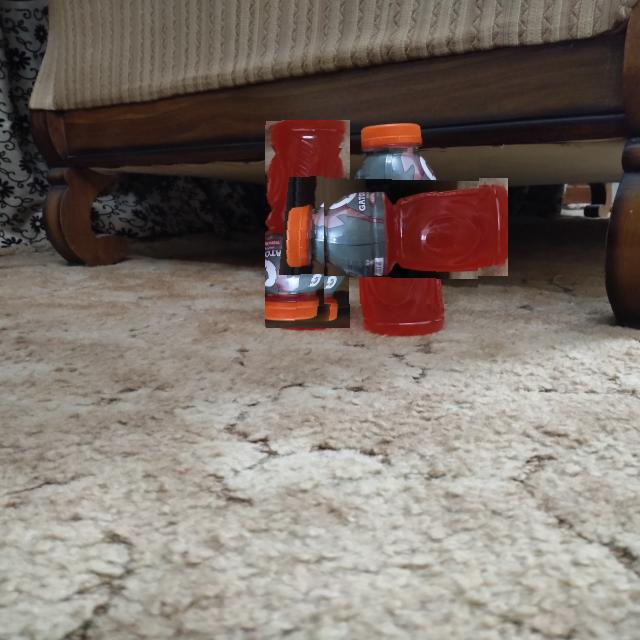Plastic: (324, 148, 479, 304), (265, 120, 350, 328)
